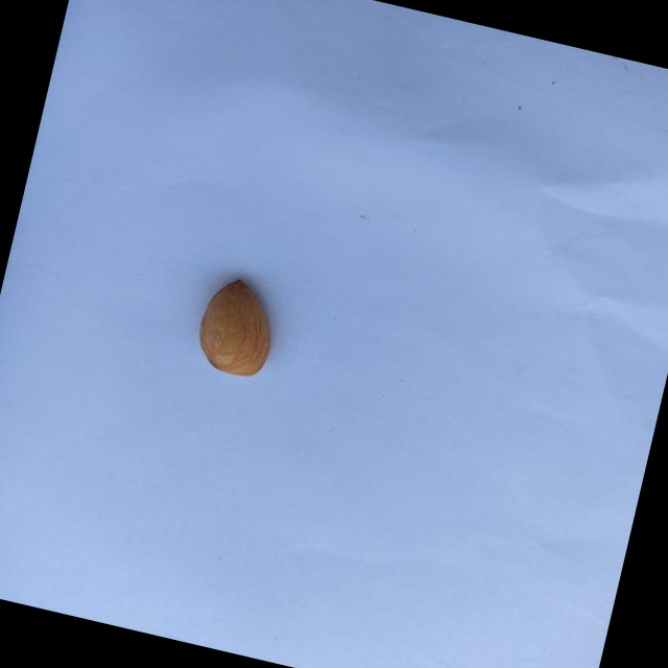grade2: (187, 270, 292, 386)
